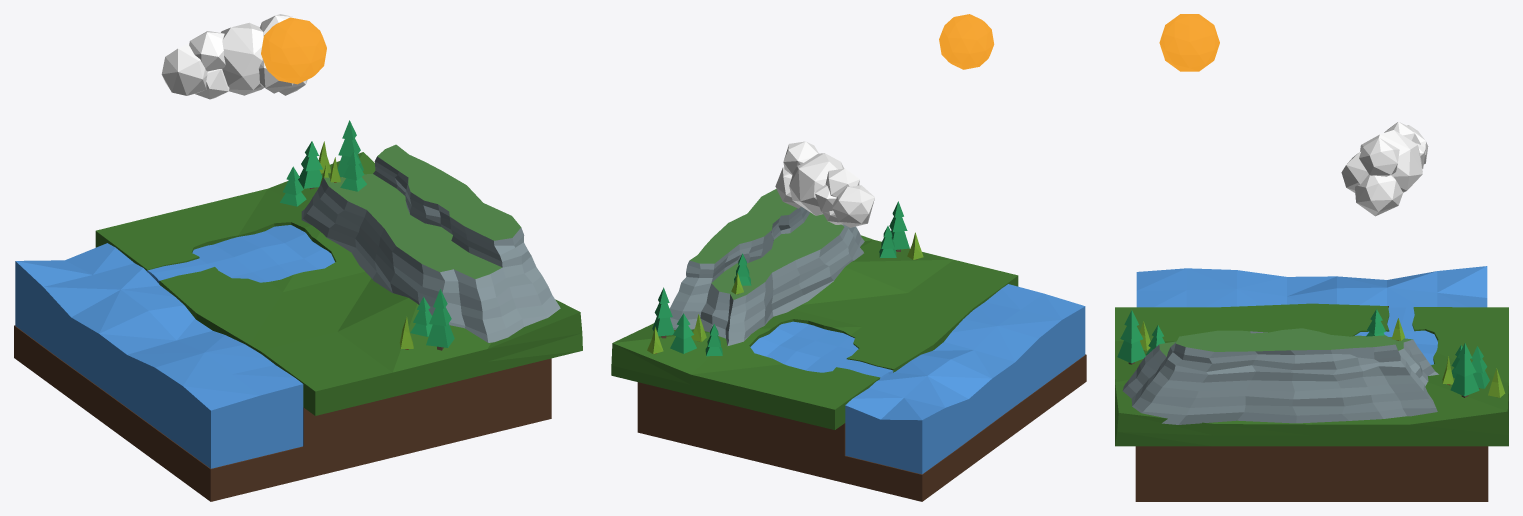
The model's file is water_cycle_model_v2.glb.
The picture shows the model from 3 angles, left to right: view 1: azimuth 30°, elevation 25°; view 2: azimuth 150°, elevation 25°; view 3: azimuth 270°, elevation 25°; orthographic projection. The views are drawn at different scales.
Visible parts, largest first — view 1: Base, Sea, Mountain, Cloud, Lake, Sun, Cube.009, Cube.005, Cube.006; view 2: Base, Sea, Mountain, Cloud, Lake, Sun, Cube.006, Cube.005, Cube.009; view 3: Base, Mountain, Sea, Cloud, Sun, Lake, Cube.006, Cube.009, Cube.005.
Part boxes in pixels (<box>): Base: <box>14,152,582,501</box>; Sea: <box>15,243,303,468</box>; Mountain: <box>301,144,560,342</box>; Cloud: <box>161,14,307,99</box>; Lake: <box>146,225,334,284</box>; Sun: <box>261,17,326,84</box>; Cube.009: <box>426,289,454,350</box>; Cube.005: <box>298,141,322,189</box>; Cube.006: <box>337,120,363,177</box>; Base: <box>611,235,1086,501</box>; Sea: <box>845,284,1085,474</box>; Mountain: <box>669,189,864,345</box>; Cloud: <box>775,141,874,227</box>; Lake: <box>750,321,894,379</box>; Sun: <box>939,14,994,69</box>; Cube.006: <box>652,287,674,338</box>; Cube.005: <box>670,313,696,353</box>; Cube.009: <box>889,201,909,251</box>; Base: <box>1115,303,1508,501</box>; Mountain: <box>1122,328,1438,424</box>; Sea: <box>1136,266,1487,307</box>; Cloud: <box>1341,121,1428,216</box>; Sun: <box>1159,14,1219,71</box>; Lake: <box>1355,307,1437,365</box>; Cube.006: <box>1450,343,1479,397</box>; Cube.009: <box>1117,310,1145,364</box>; Cube.005: <box>1471,346,1489,388</box>.
Size of the model in its own units: 6.41 by 7.27 by 6.7.
